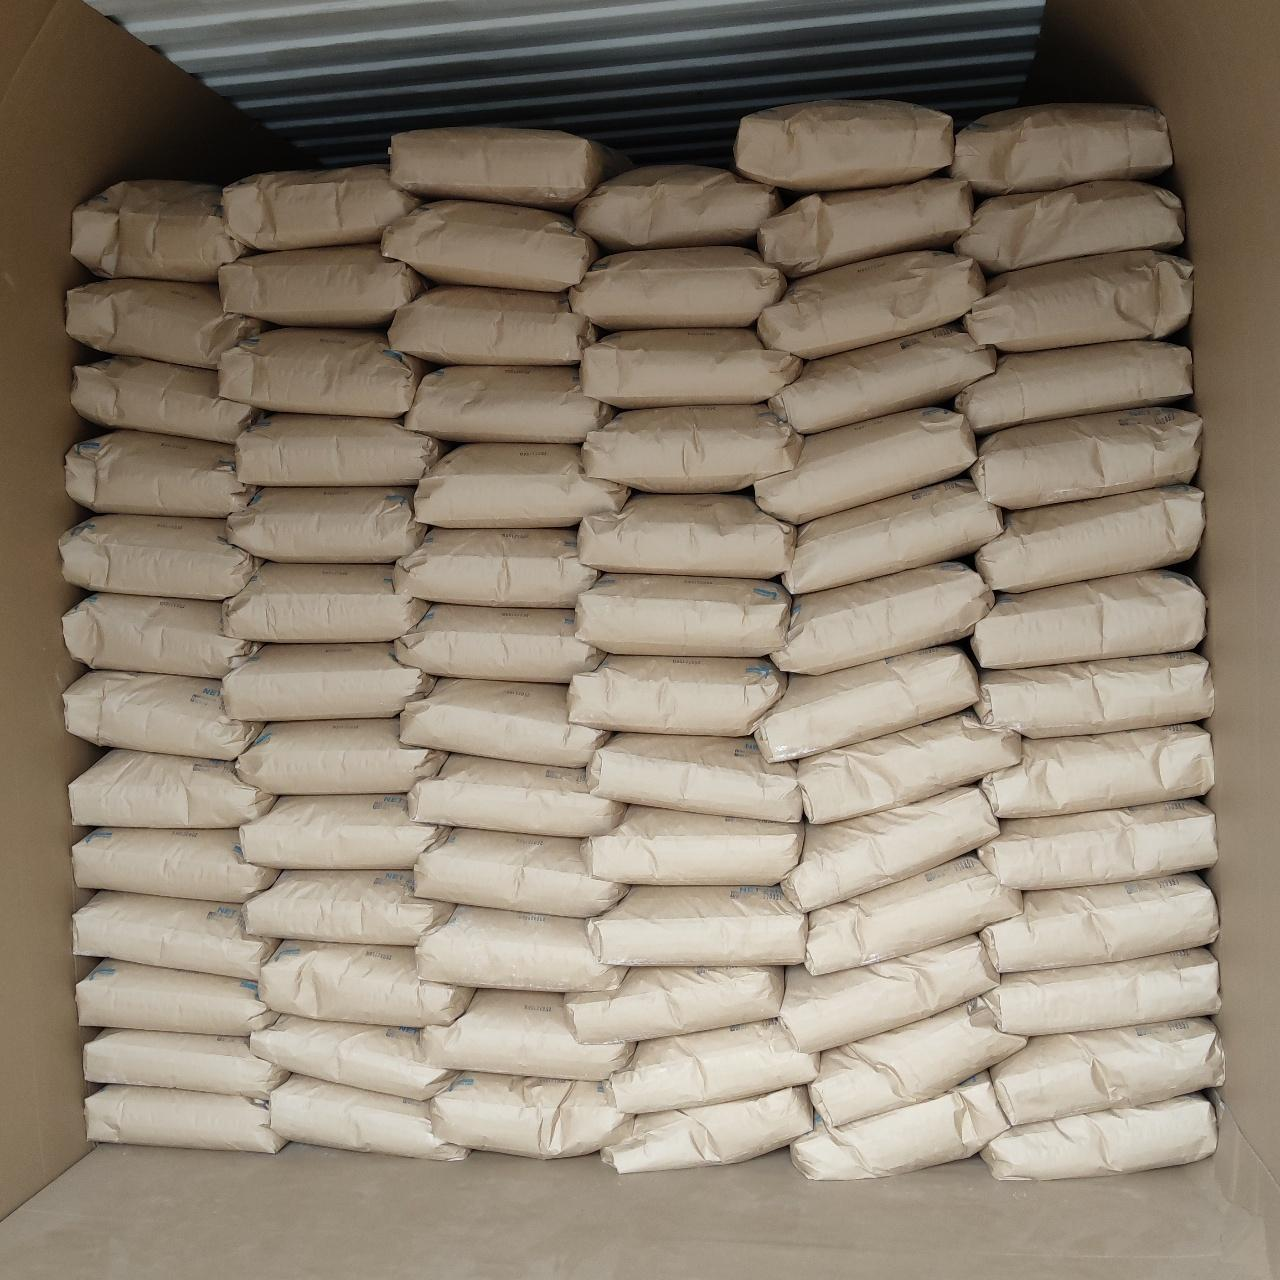sack: (812, 1002, 1022, 1126), (784, 788, 998, 910), (806, 856, 1017, 974), (756, 408, 974, 522), (798, 712, 1022, 822), (756, 646, 974, 758), (782, 937, 998, 1048), (992, 1020, 1223, 1122), (772, 326, 996, 430), (772, 564, 990, 670), (784, 481, 998, 590), (760, 252, 982, 356), (976, 486, 1201, 590), (971, 408, 1198, 508), (790, 1074, 1006, 1178), (982, 874, 1216, 971), (966, 252, 1190, 350), (974, 570, 1204, 663), (972, 949, 1218, 1034), (758, 178, 972, 275), (956, 342, 1190, 430), (980, 799, 1214, 886), (982, 726, 1212, 813), (982, 1094, 1214, 1180), (956, 182, 1182, 270), (390, 128, 628, 210), (976, 652, 1212, 734), (736, 100, 949, 190), (952, 104, 1170, 192), (382, 200, 598, 288), (606, 1020, 813, 1110), (422, 990, 629, 1078), (588, 734, 798, 821), (258, 940, 470, 1026), (584, 406, 798, 490), (416, 830, 624, 915), (602, 1088, 812, 1172), (220, 328, 425, 414), (402, 680, 606, 765), (416, 444, 628, 526), (74, 892, 275, 978), (418, 906, 622, 990), (576, 166, 782, 250), (580, 493, 792, 574), (576, 574, 788, 654), (410, 756, 622, 836), (66, 672, 260, 758), (588, 886, 806, 964), (584, 806, 802, 884), (72, 182, 246, 278), (68, 280, 263, 366), (252, 1016, 454, 1098), (570, 656, 782, 734), (572, 248, 784, 326), (430, 1074, 629, 1156), (583, 331, 798, 406), (390, 286, 595, 365), (62, 516, 258, 598), (224, 166, 420, 248), (270, 1076, 464, 1158), (406, 366, 614, 442), (220, 246, 424, 324), (66, 433, 254, 516), (64, 594, 254, 676), (74, 358, 258, 442), (224, 644, 430, 719), (224, 564, 425, 640), (396, 530, 598, 606), (568, 968, 782, 1039), (72, 750, 274, 824), (240, 796, 445, 869), (396, 606, 598, 680), (74, 828, 278, 900), (236, 414, 445, 484), (79, 960, 278, 1034), (236, 720, 444, 790), (244, 872, 452, 942), (86, 1030, 286, 1098), (229, 488, 422, 558), (88, 1085, 284, 1150)
